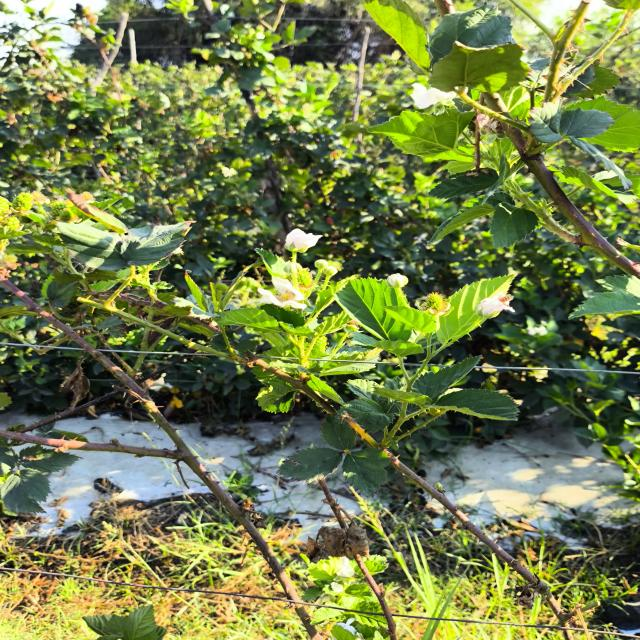boton: (283, 262, 303, 274), (315, 259, 328, 271), (324, 266, 338, 277)
flor: (258, 277, 306, 309), (476, 294, 515, 317), (285, 229, 322, 252), (386, 273, 408, 289)
